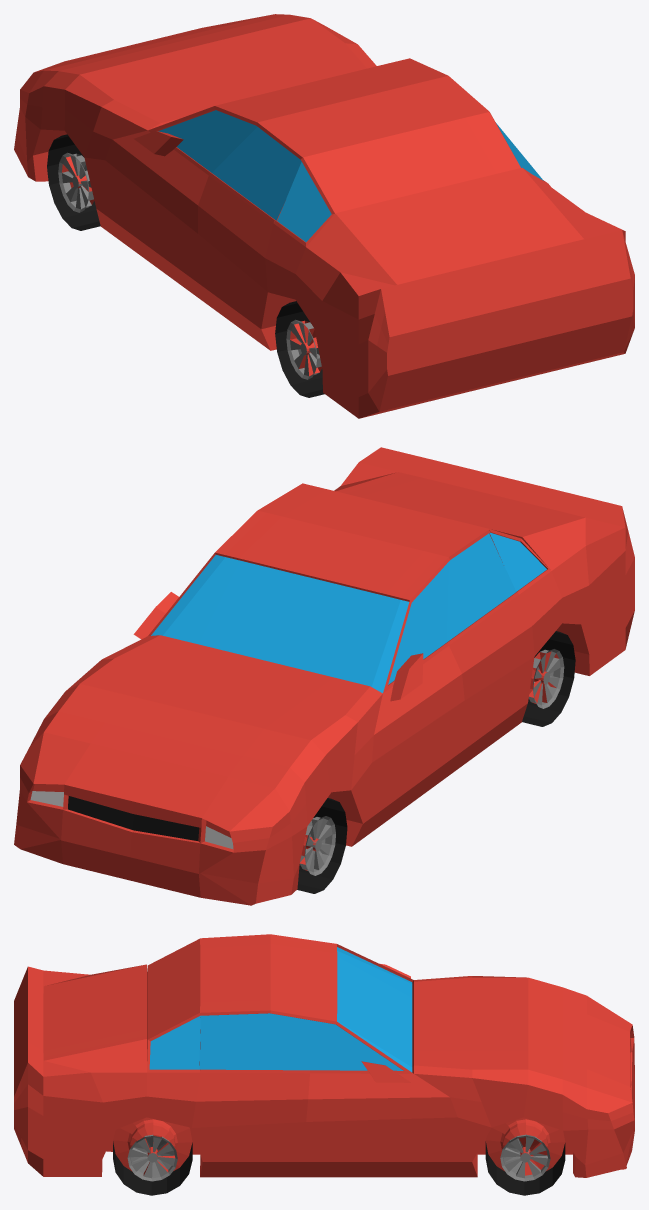
Rendered from lowpolycar.fbx.
3 views of the same model, one above another, from view 1: azimuth 30°, elevation 25°; view 2: azimuth 150°, elevation 25°; view 3: azimuth 270°, elevation 25° (orthographic). The views are drawn at different scales.
Parts seen in each view (by area): view 1: Cube; view 2: Cube; view 3: Cube.
Boxes of the visible parts, bbox=[...] form: Cube: bbox=[14, 14, 634, 418]; Cube: bbox=[14, 447, 634, 905]; Cube: bbox=[14, 934, 634, 1195].
Size of the model in its own units: 179 by 135 by 438.
